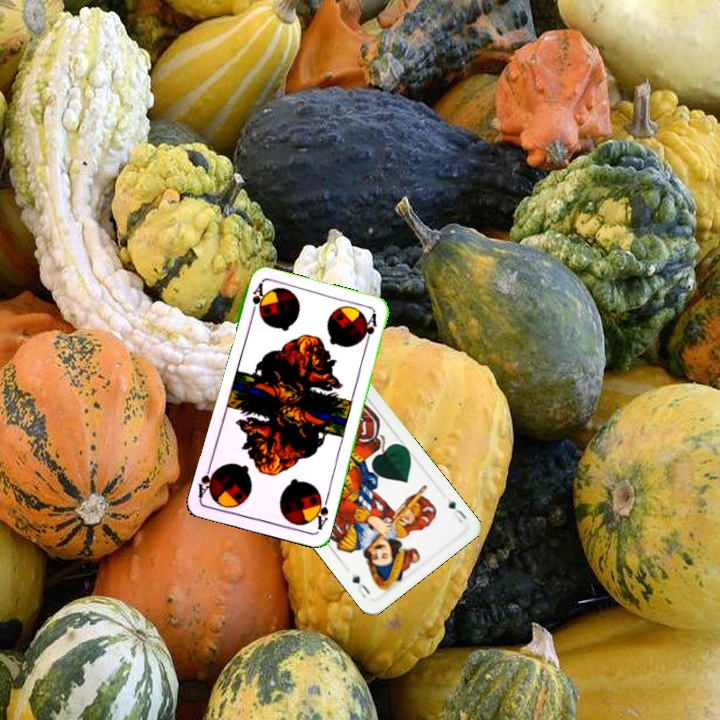GU: (444, 496, 469, 525)
SA: (310, 491, 331, 533), (247, 280, 266, 320)
